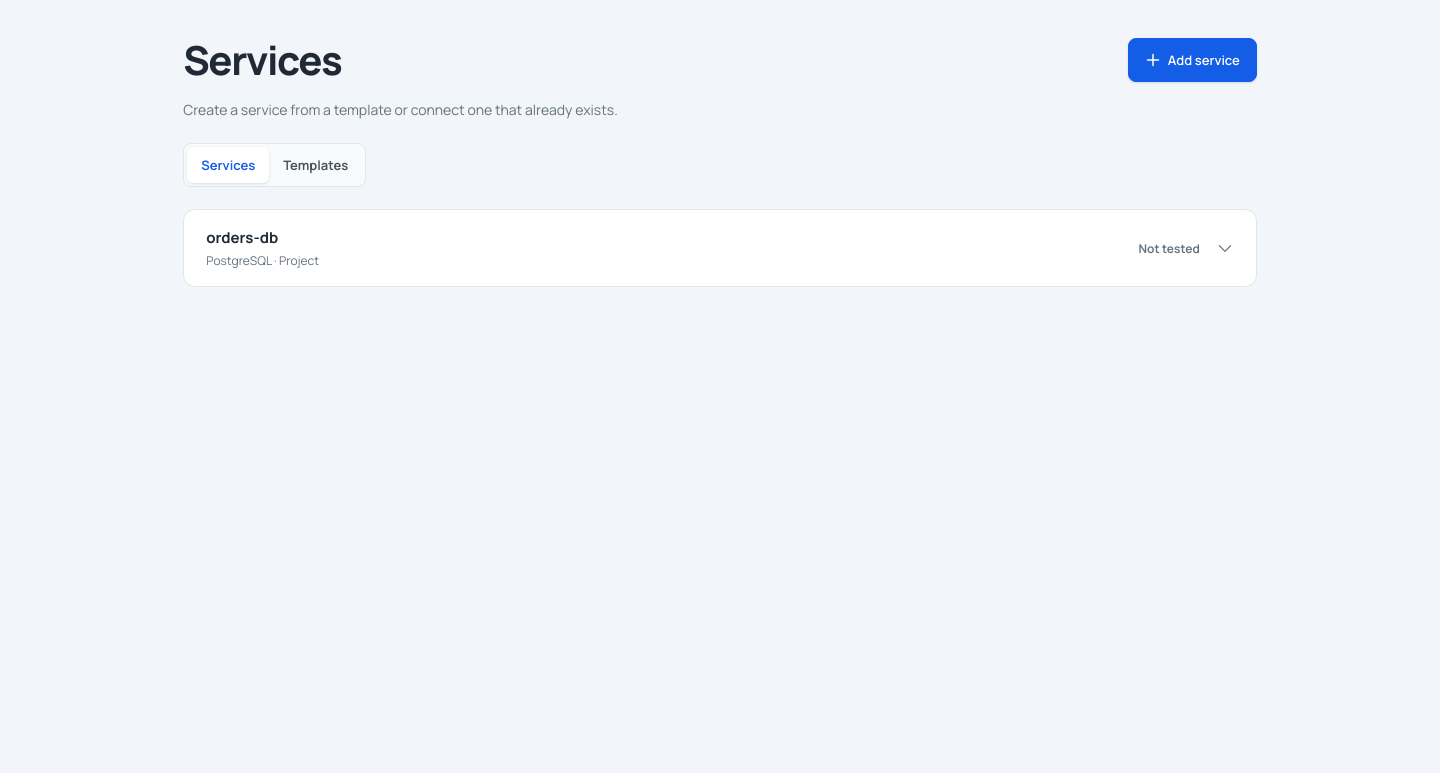
Test: requires a replacement when switching a saved password from a global secret
Click the text "orders-db".
click(242, 238)  # box [206, 227, 278, 248]
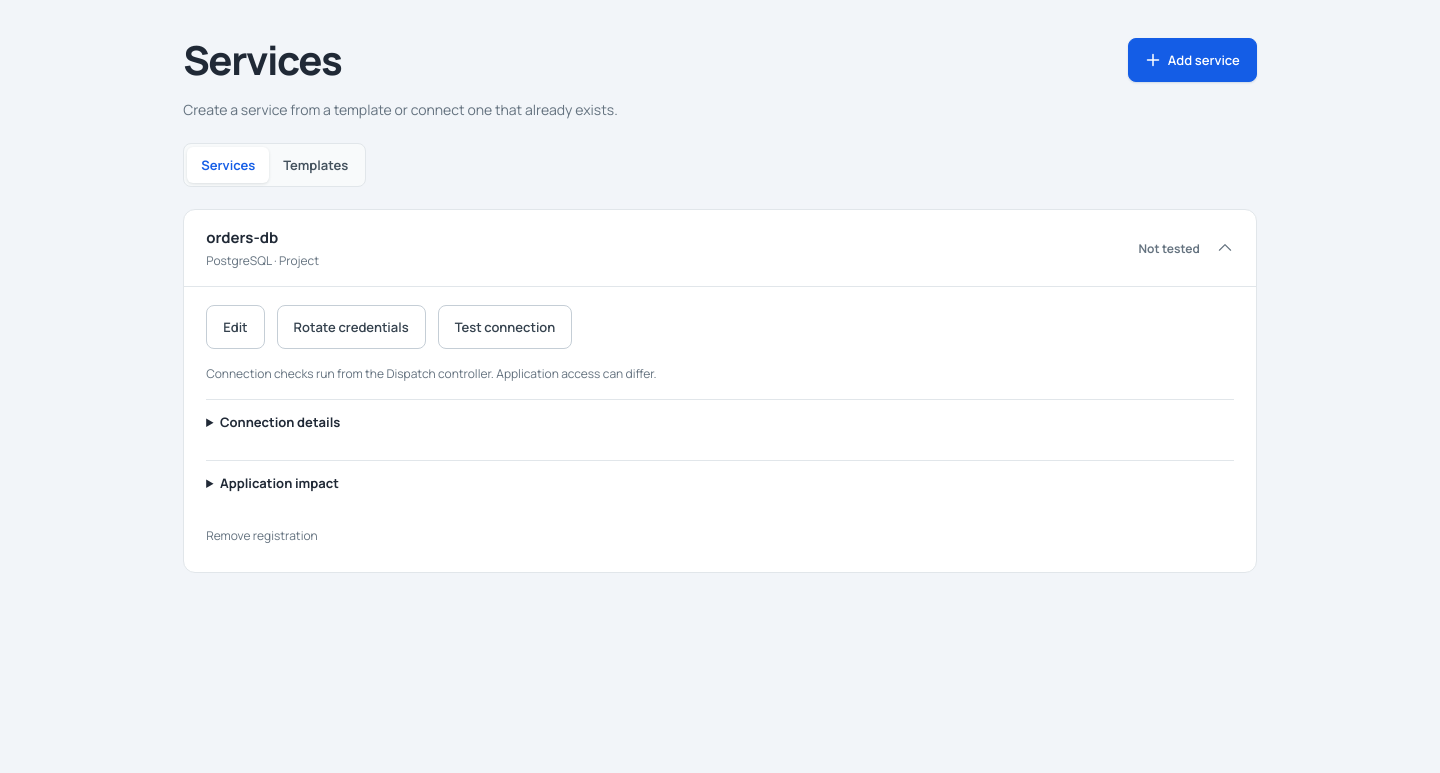
Click the button "Edit".
click(235, 327)  # box [206, 305, 265, 349]
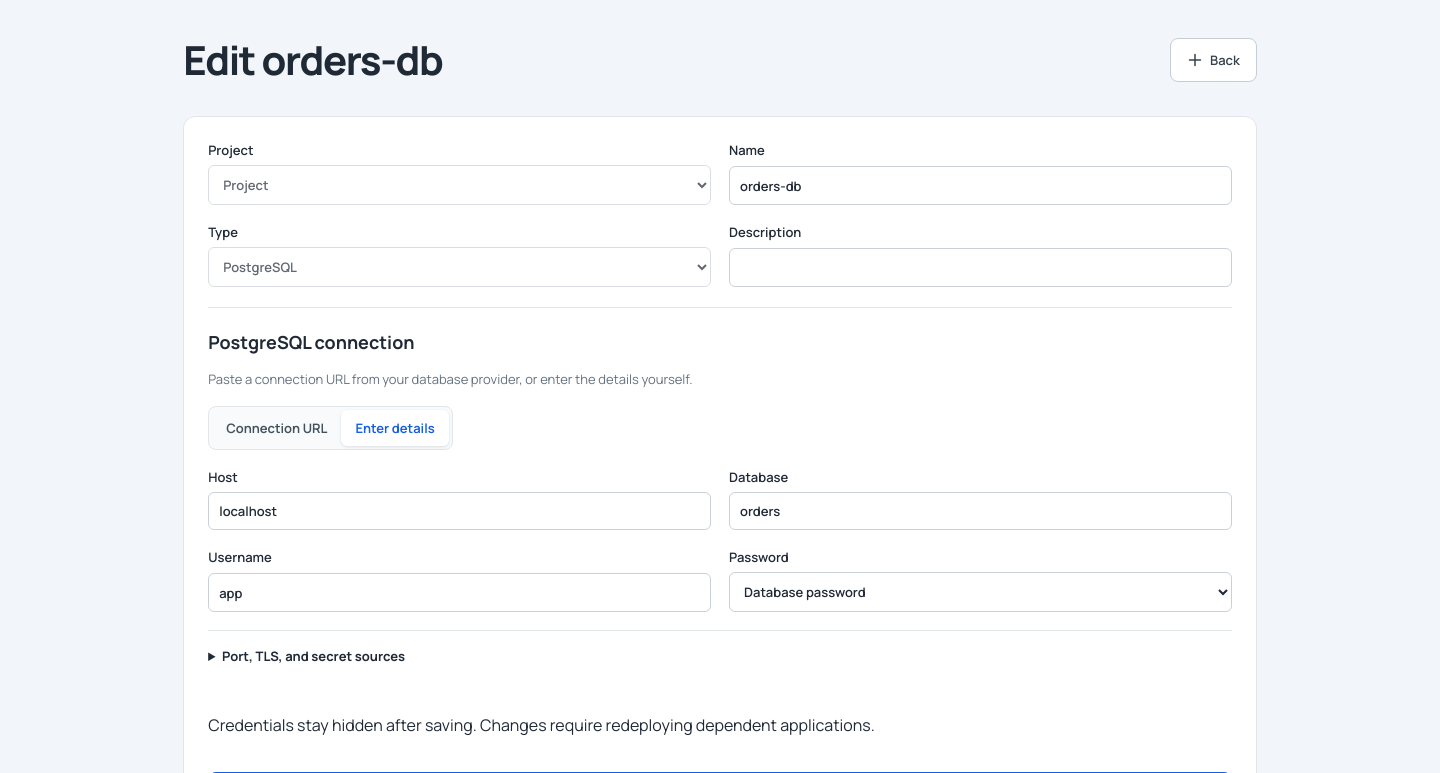
Click the heading "Port, TLS, and secret sources".
click(314, 656)  # box [222, 647, 405, 665]
(page scrolled)
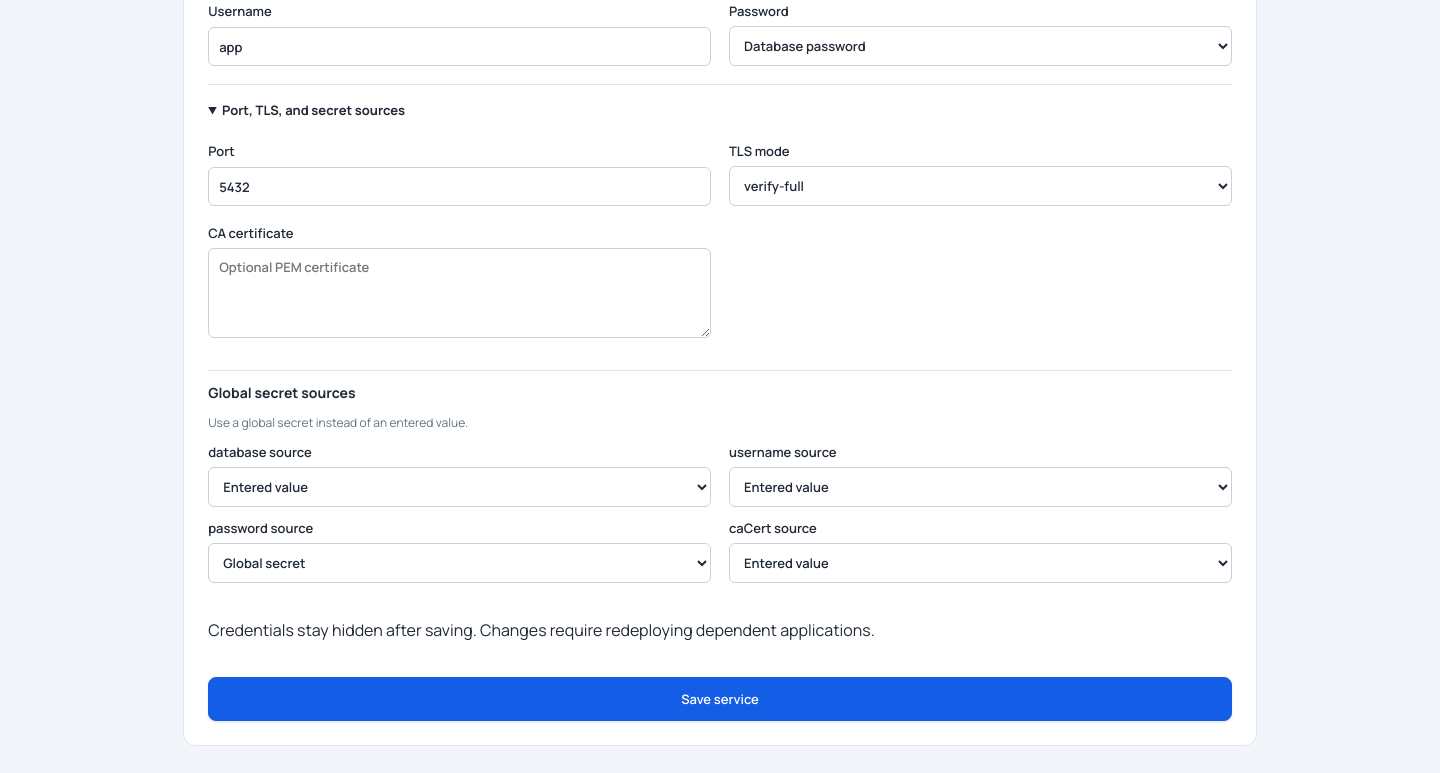
Select "Entered value" in the dropdown labelled "password source" at (460, 563), box [208, 543, 711, 583]
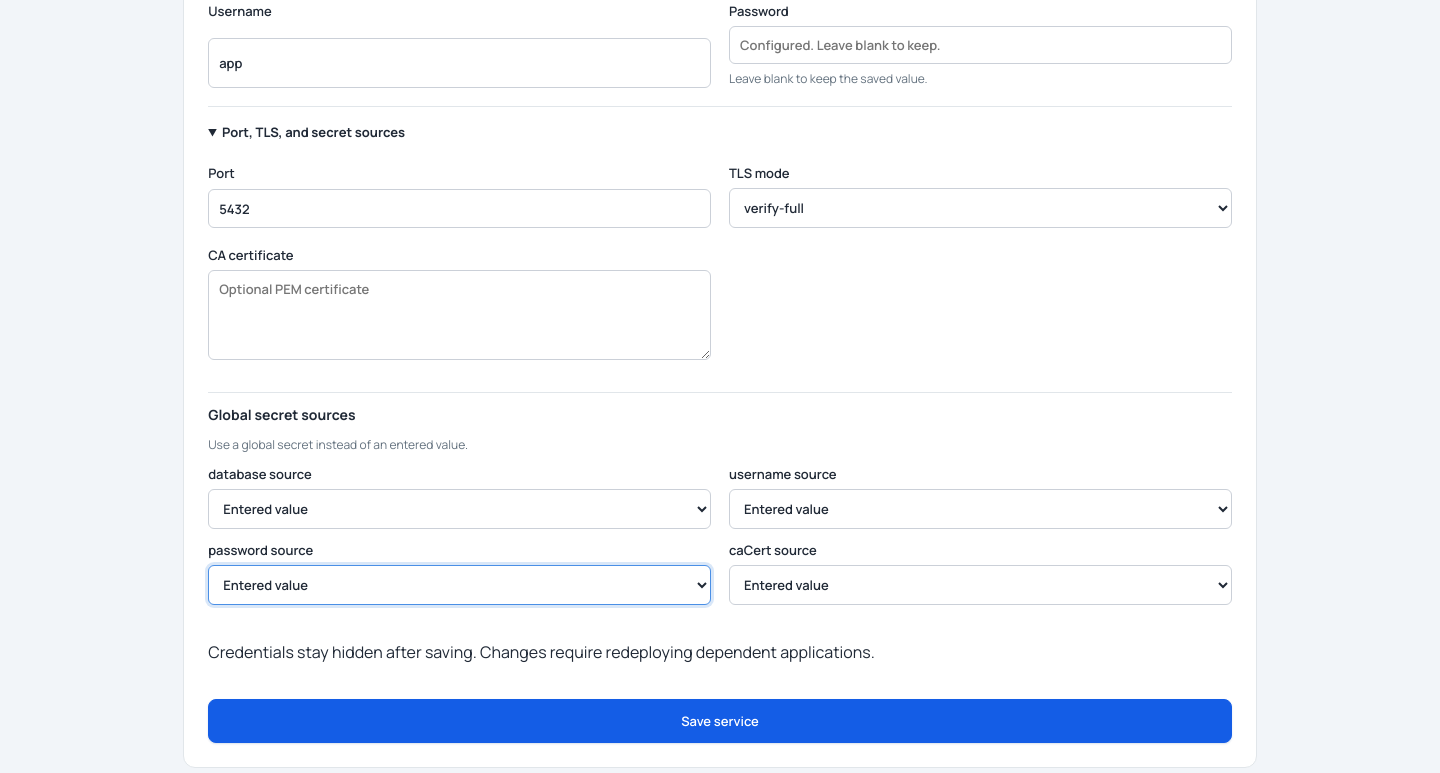
Click the button "Save service".
click(720, 721)  # box [208, 699, 1232, 743]
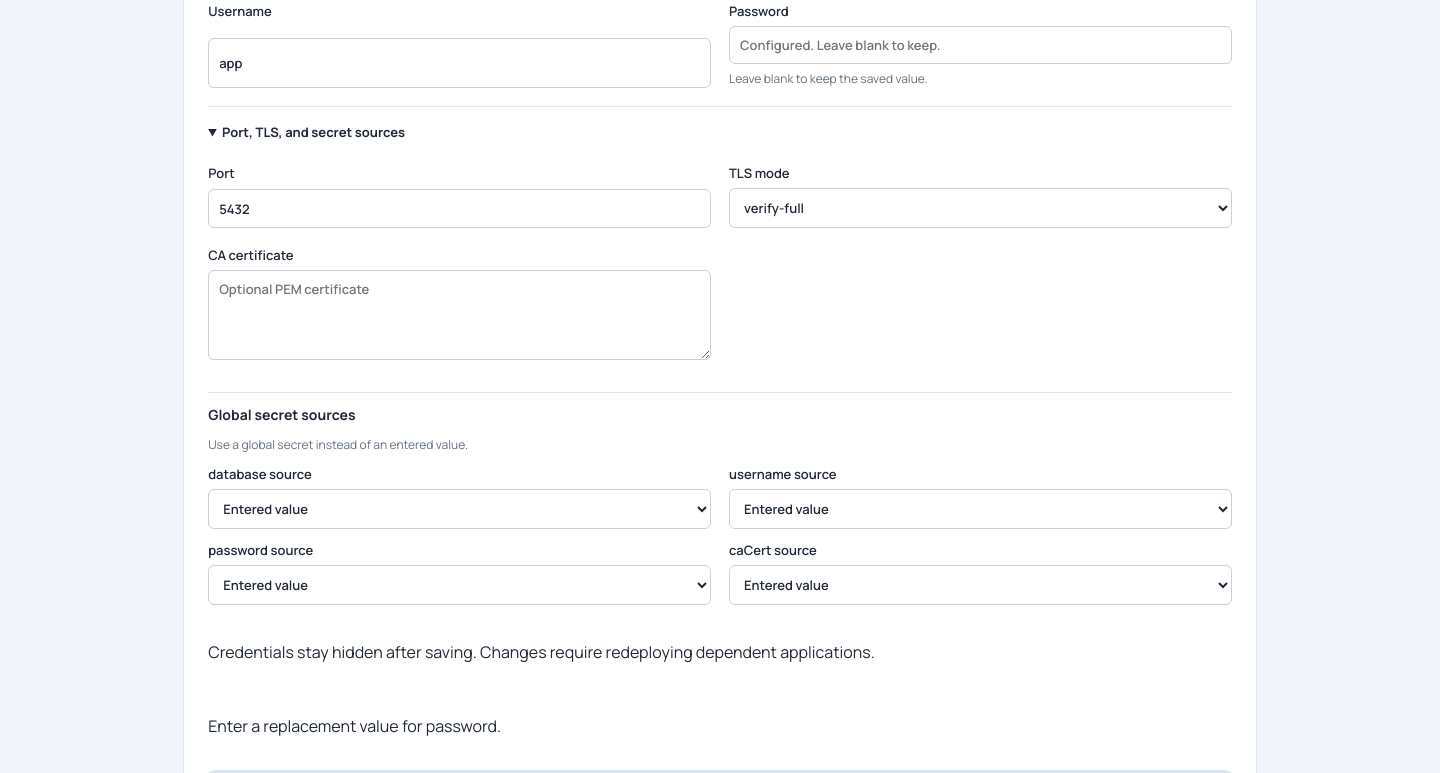
Now the message shows "replacement value for password", box [208, 715, 501, 737]
